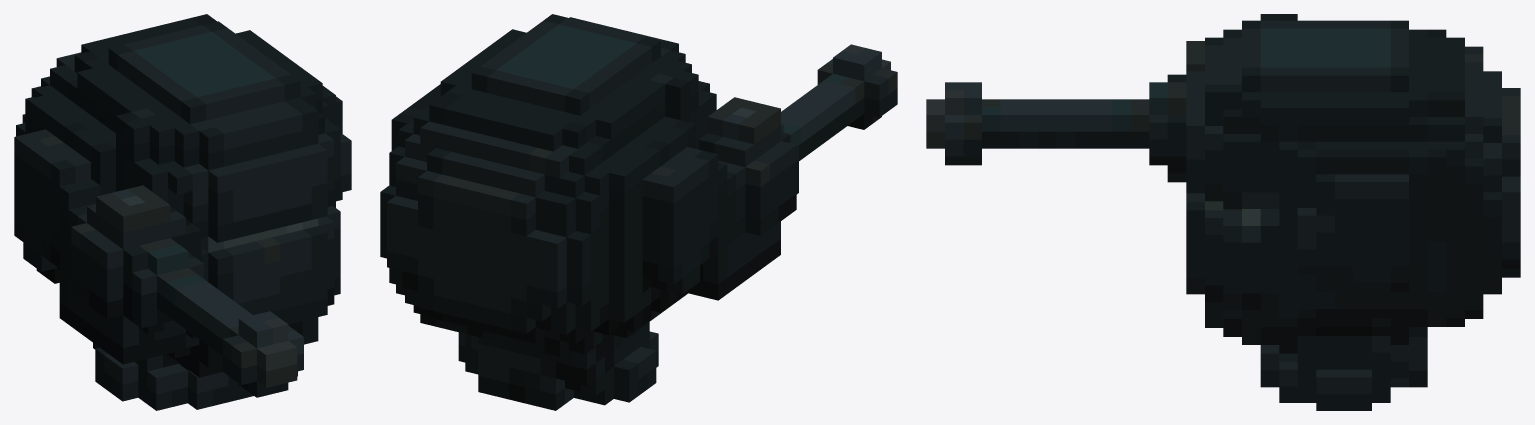
The model's file is head_targeter.glb.
The picture shows the model from 3 angles, left to right: view 1: azimuth 30°, elevation 25°; view 2: azimuth 150°, elevation 25°; view 3: azimuth 270°, elevation 25°; orthographic projection. The views are drawn at different scales.
Visible parts, largest first — view 1: model; view 2: model; view 3: model.
Part boxes in pixels (x1,y1,x2,y2): model: [14, 14, 351, 410]; model: [380, 14, 897, 410]; model: [926, 14, 1520, 410].
Size of the model in its own units: 0.608 by 0.608 by 1.02.
1 material, 1 textured.
